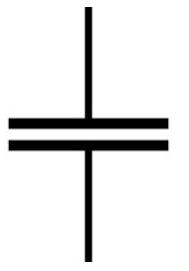Capacitor: (1, 88, 175, 188)
